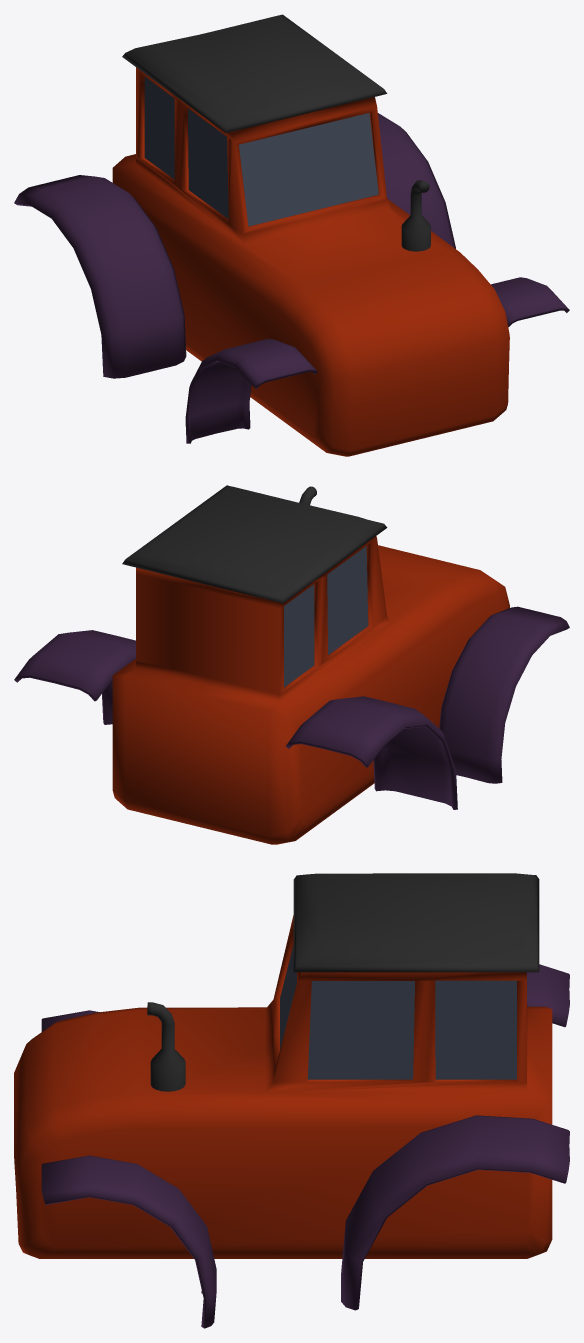
File: Tractor.fbx
The picture shows the model from 3 angles, top to bottom: view 1: azimuth 30°, elevation 25°; view 2: azimuth 150°, elevation 25°; view 3: azimuth 270°, elevation 25°; orthographic projection. The views are drawn at different scales.
Parts seen in each view (by area): view 1: Tractor; view 2: Tractor; view 3: Tractor.
Part boxes in pixels (bbox=[...]): Tractor: bbox=[14, 14, 569, 456]; Tractor: bbox=[14, 485, 569, 844]; Tractor: bbox=[14, 873, 569, 1328].
Bounding box in the file's own units: 2.16 × 2.48 × 1.62.
